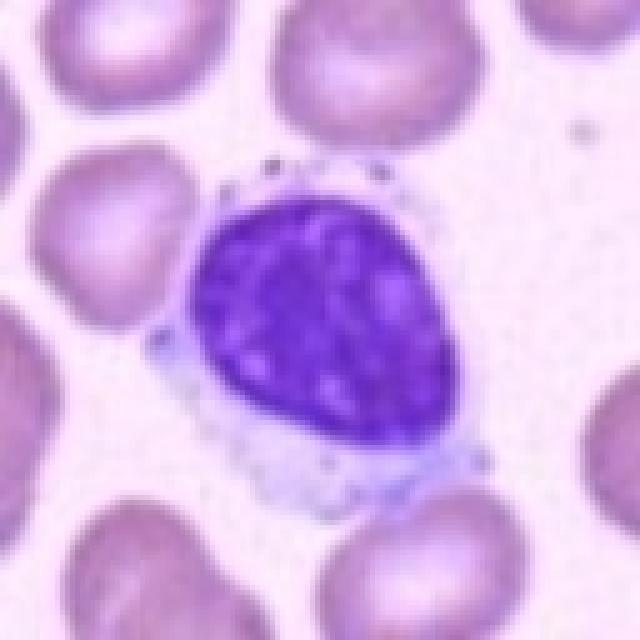lympho: (139, 140, 508, 526)
